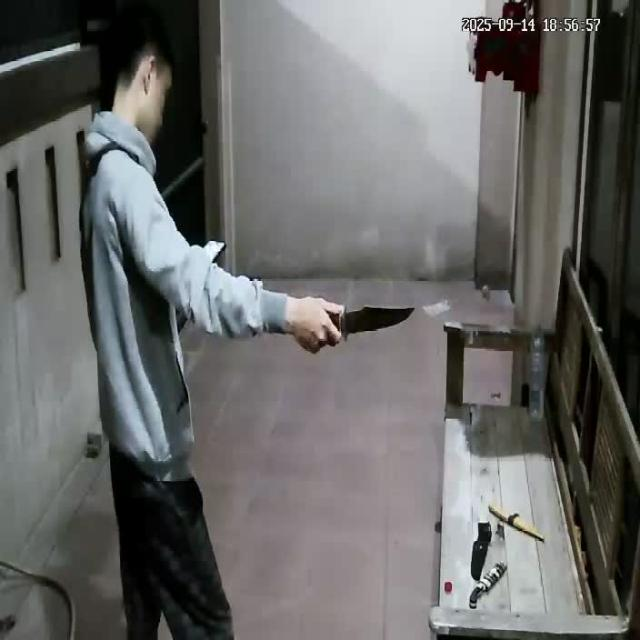senjata_tajam: (336, 302, 417, 343)
